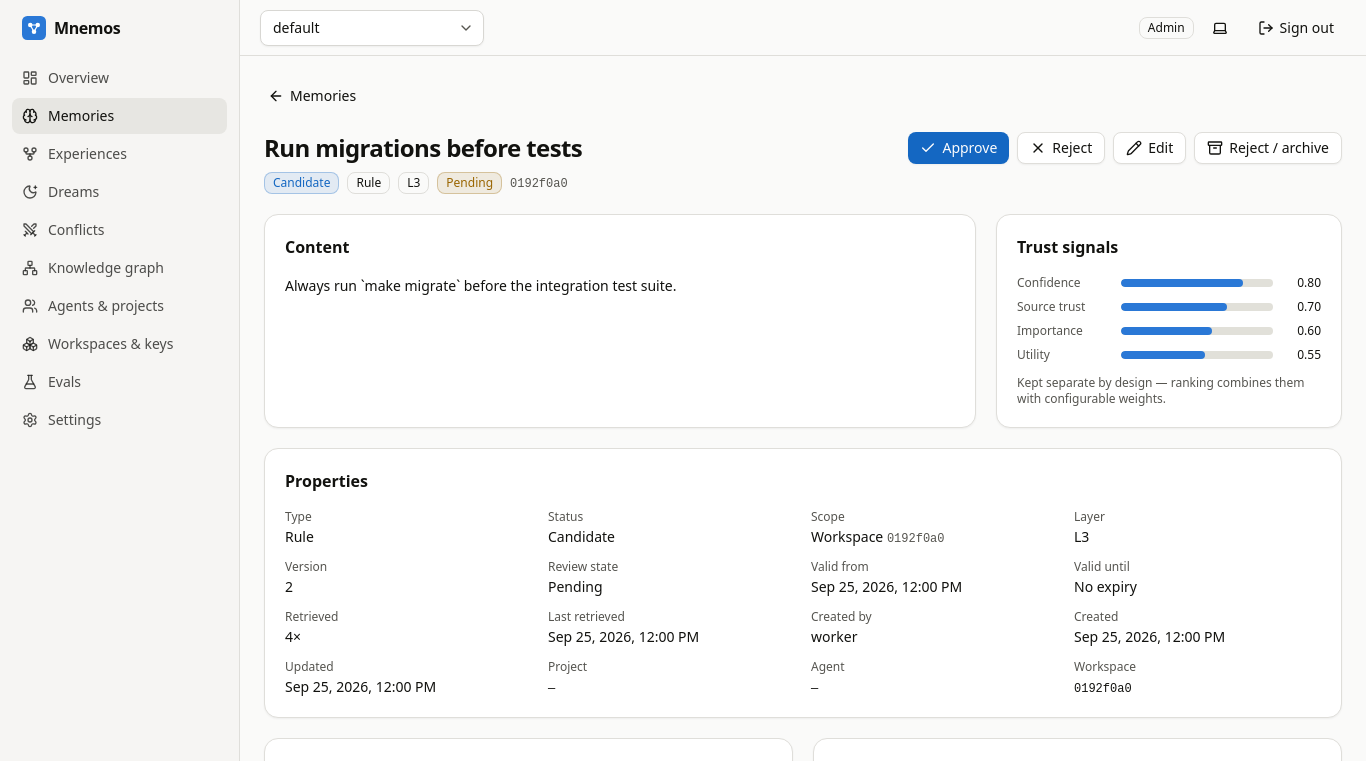
Memory detail › offers approve/reject for pending candidates to reviewers and sends the expected version
The image size is (1366, 761).
Click the button with test id "memory-approve-button": [959, 148] box [908,132,1009,164]
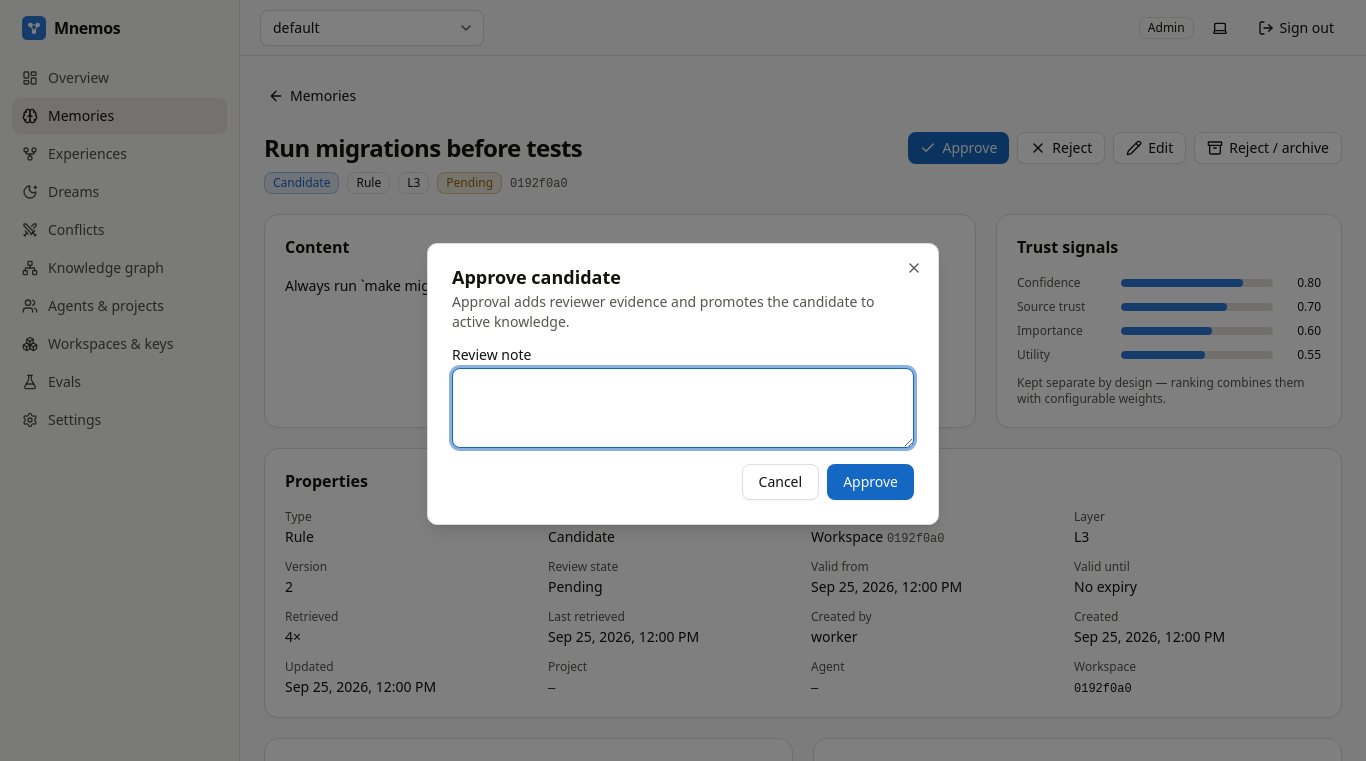
In the text box with test id "memory-review-note": [683, 408] box [452,368,914,448], type "verified"
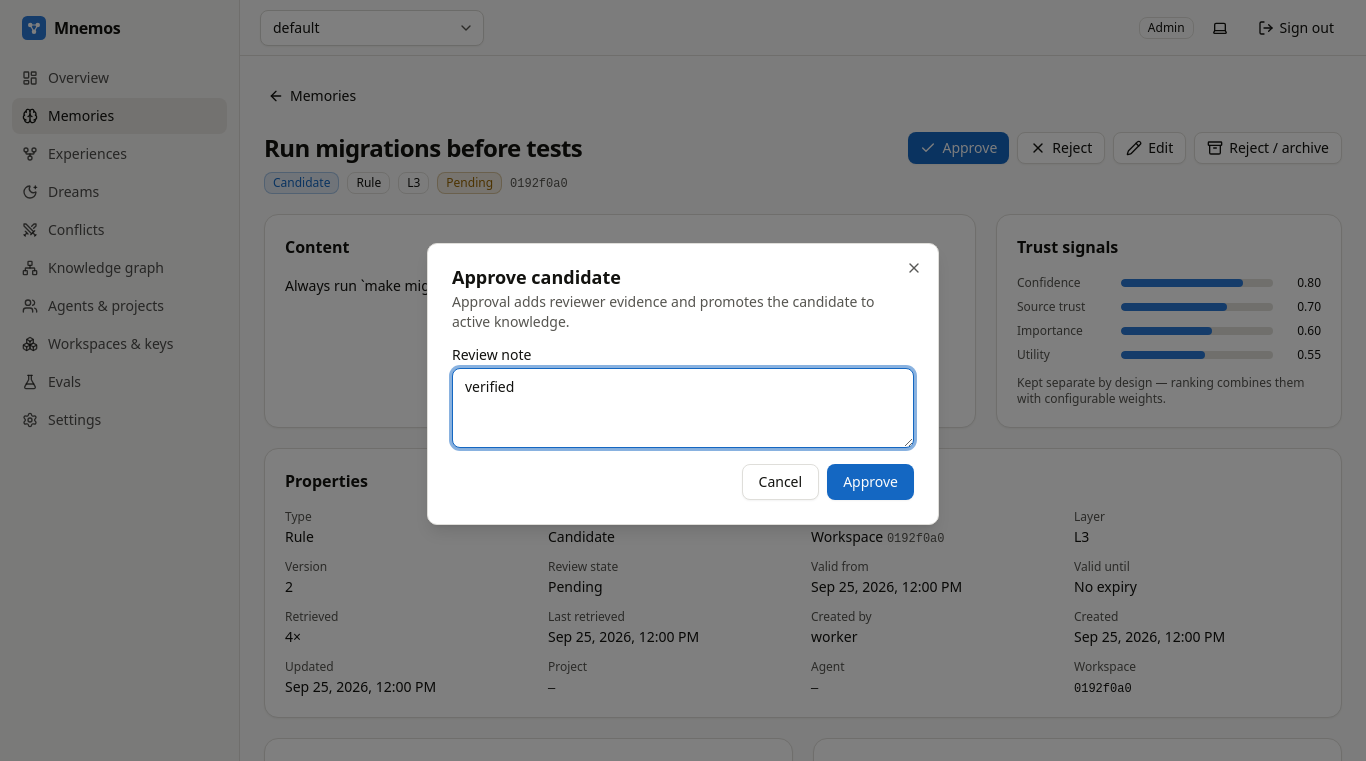
Click the button with test id "memory-review-dialog-confirm": [871, 482] box [827,464,914,500]
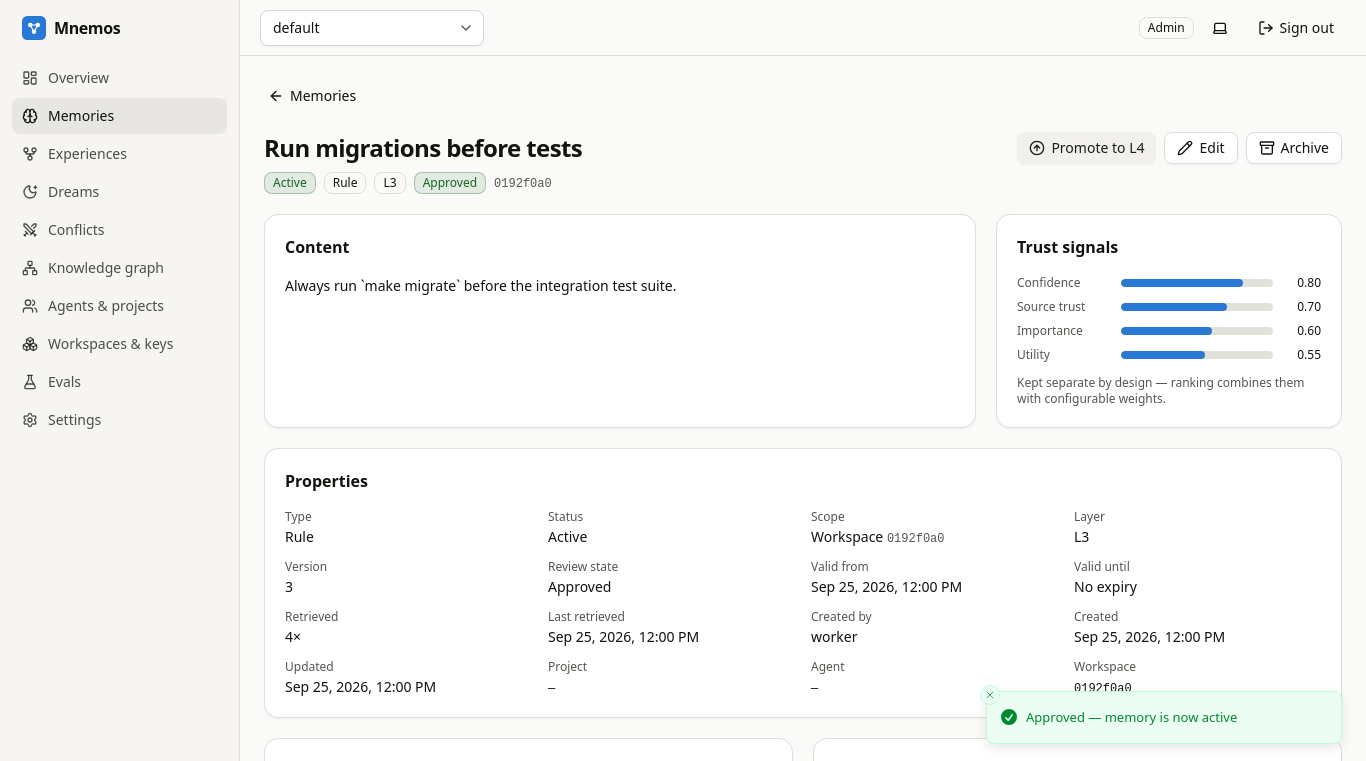
Expected: the button with test id "memory-approve-button" is gone
